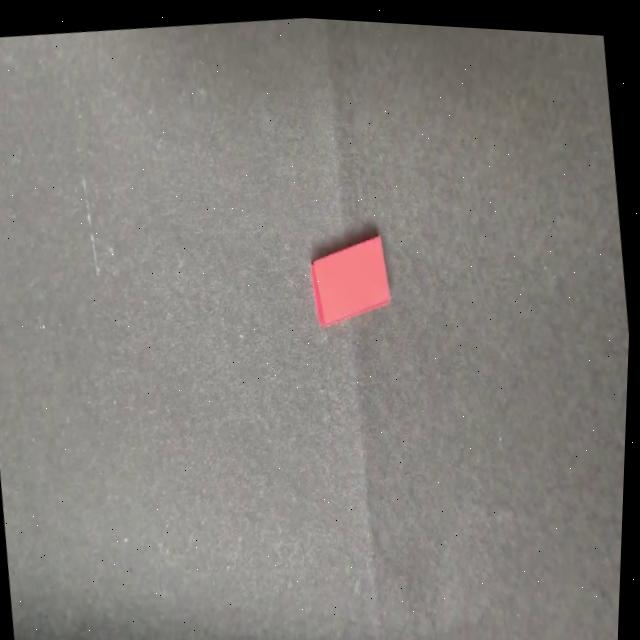red block: (304, 227, 396, 333)
